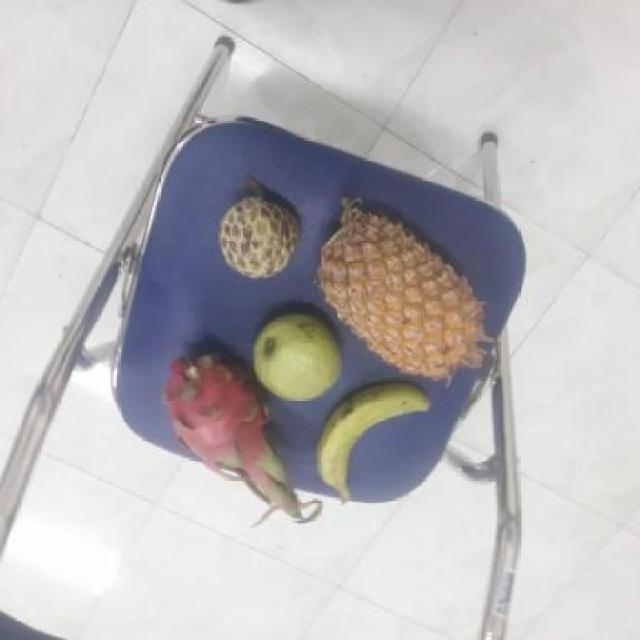banana: (318, 384, 438, 502)
dragon fruit: (168, 352, 302, 497)
guava: (250, 315, 344, 402)
pineapple: (317, 199, 492, 379)
sugar apple: (220, 194, 309, 278)
